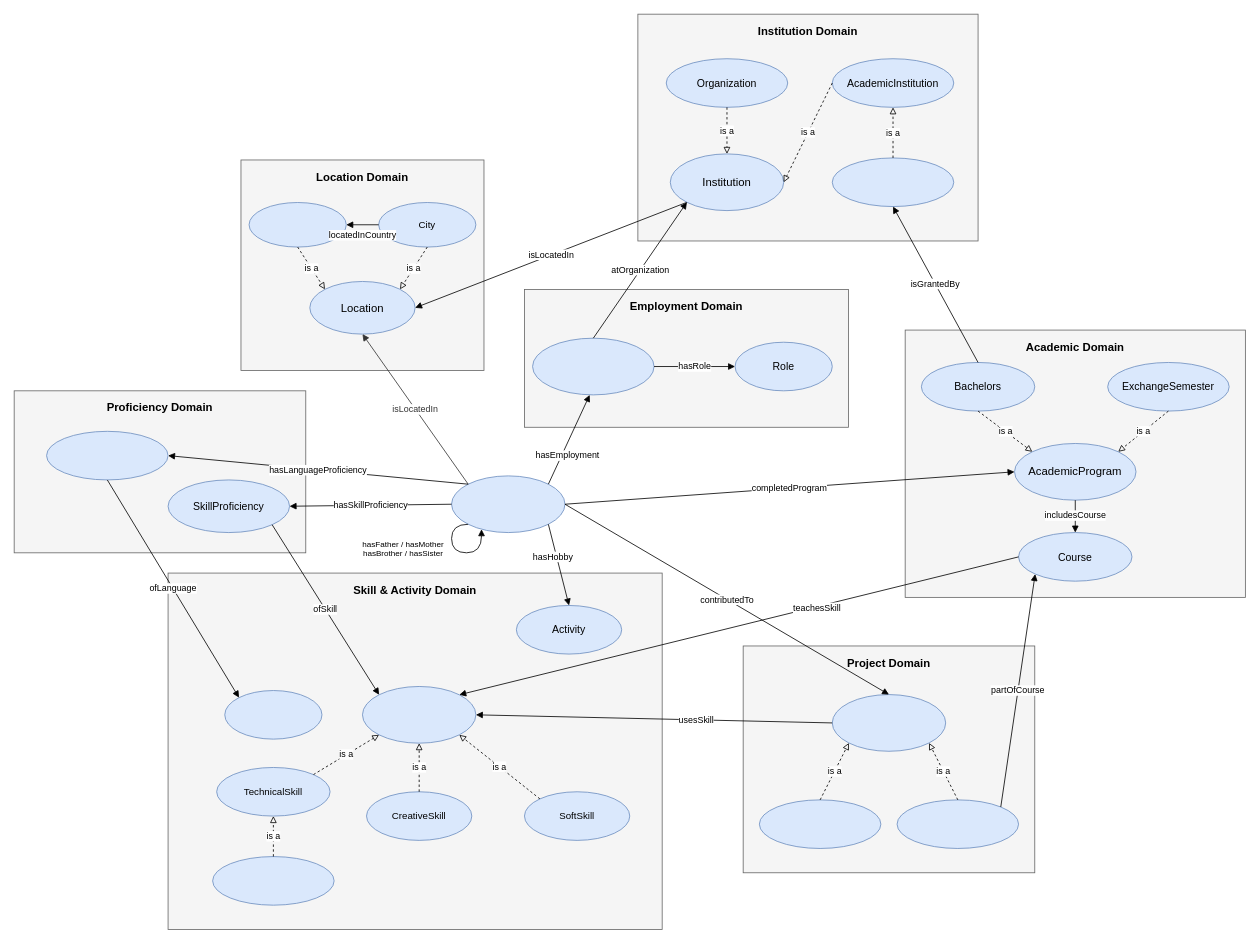
This 1260x944 diagram has some shape labels left out. The shapes that lost their labels are listed below. From the top down, each one's centre as x and y in pixels, then its label:
[892,182]: University
[297,224]: Country
[593,366]: Employment
[107,455]: LanguageProficiency
[508,504]: Person
[273,714]: Language
[419,714]: Skill
[888,722]: Project
[820,823]: PersonalProject
[957,823]: AcademicProject
[273,880]: ProgrammingLanguage
